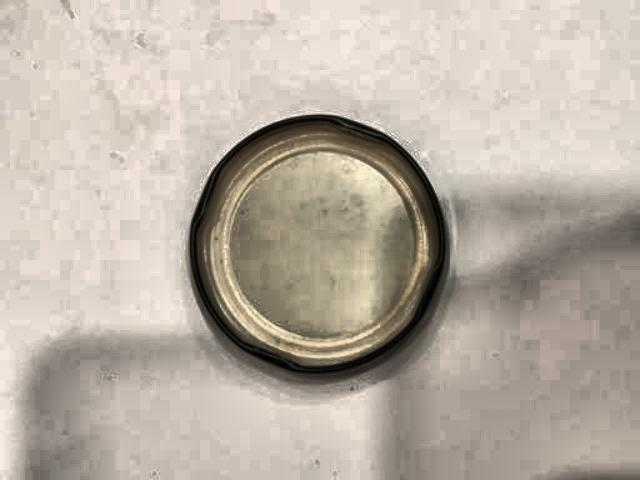Almennt: (186, 105, 466, 391)
